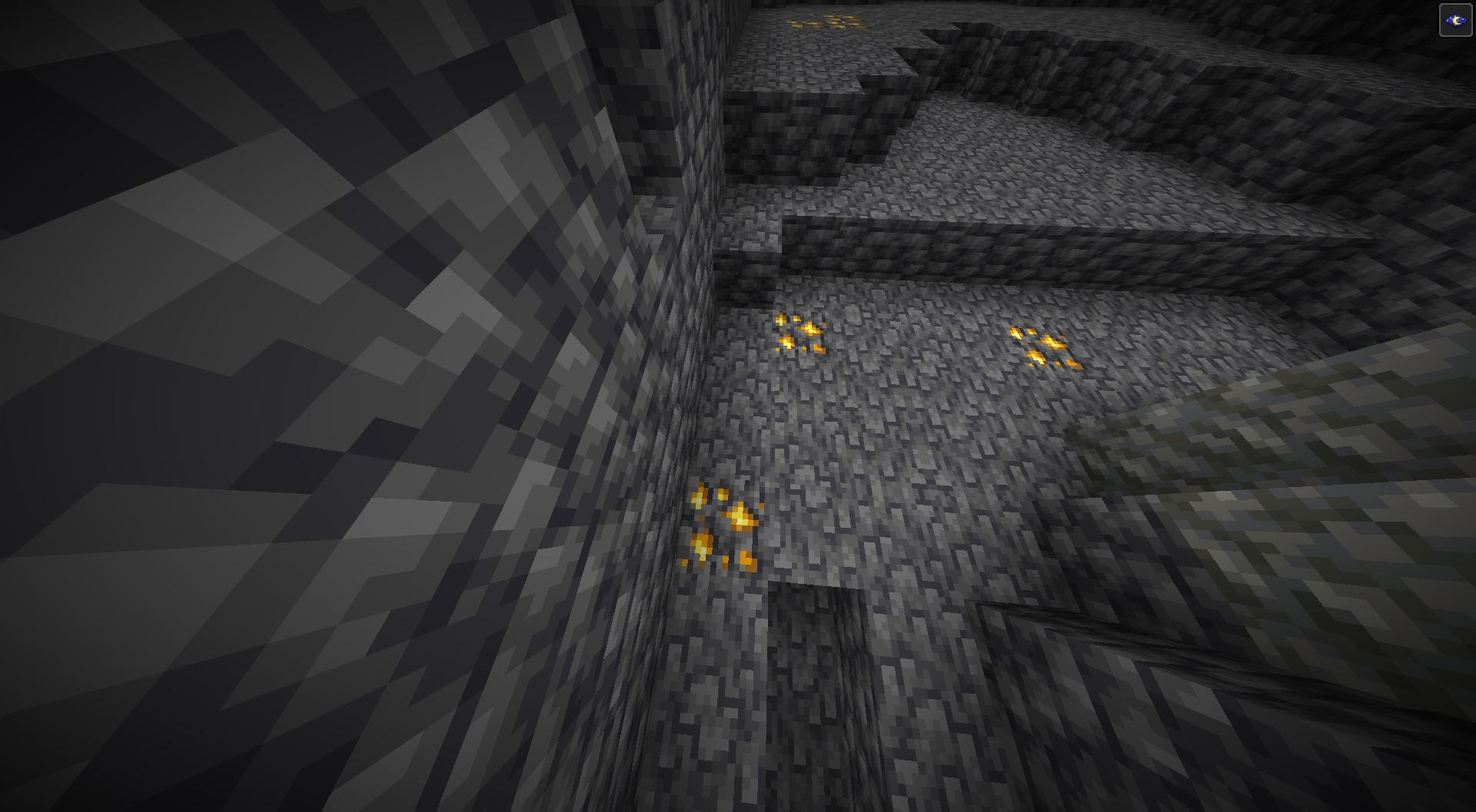gold ore: (678, 478, 765, 575), (1007, 325, 1077, 374), (773, 312, 830, 360), (785, 10, 865, 30)
